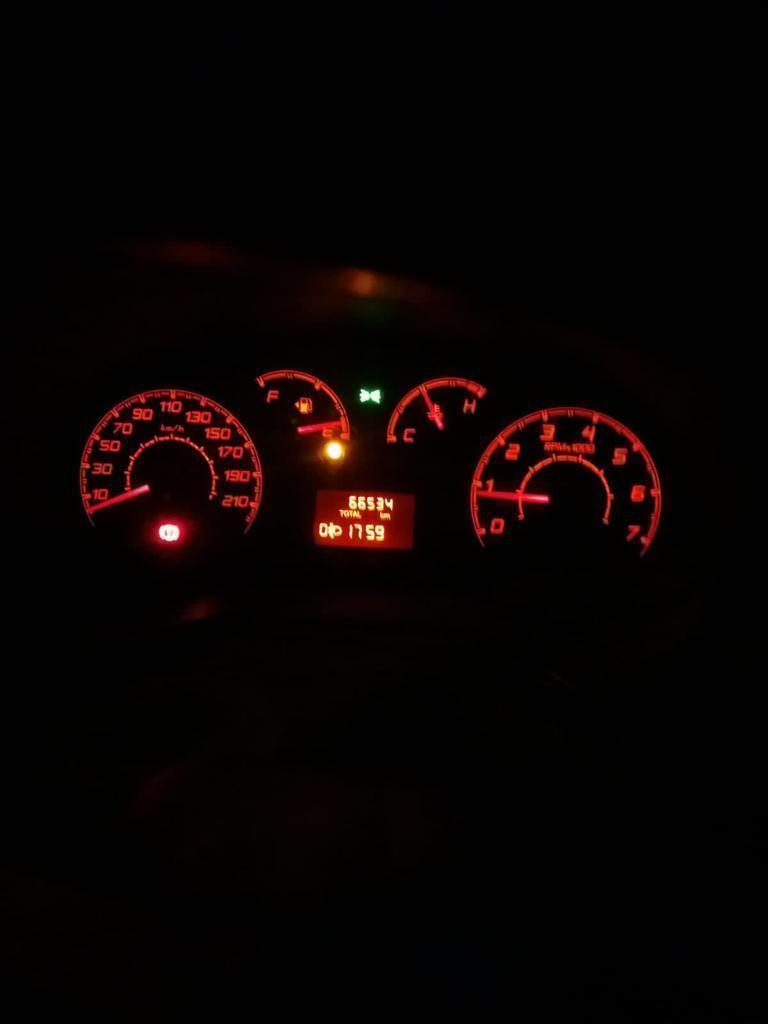0: (319, 521, 328, 537)
1: (348, 523, 353, 539)
3: (376, 496, 383, 510)
4: (384, 497, 393, 510)
5: (365, 523, 374, 540), (366, 496, 375, 510)
6: (357, 495, 366, 510), (348, 495, 357, 509)
7: (353, 523, 362, 539)
9: (374, 523, 384, 541)
X: (384, 512, 391, 520), (352, 509, 357, 518), (338, 509, 343, 518), (348, 509, 353, 517), (343, 509, 348, 517), (379, 511, 383, 520), (357, 510, 361, 519)
odometer: (308, 485, 418, 553)
